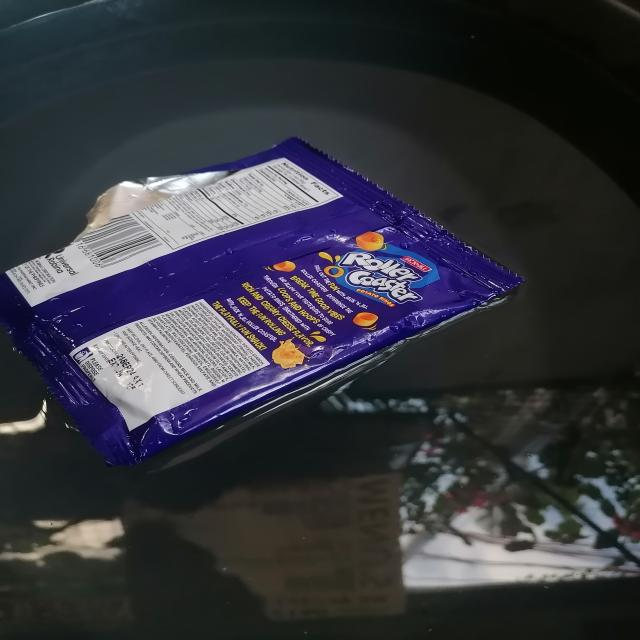Plastic Wrapper: (0, 137, 522, 464)
